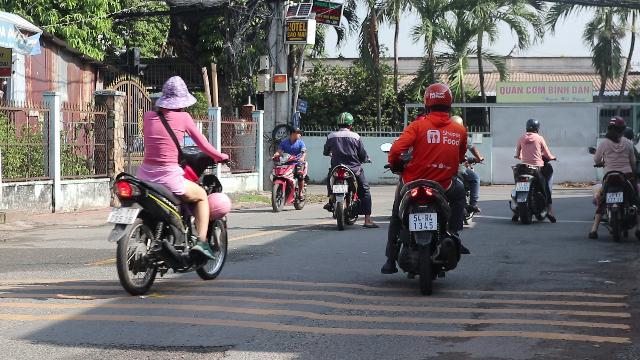helmet: (422, 82, 454, 114), (604, 116, 626, 138), (336, 112, 354, 128), (523, 118, 539, 132)
licenseplate: (108, 207, 138, 223), (409, 214, 436, 231), (606, 193, 622, 204), (332, 185, 348, 193), (516, 182, 530, 190)
motorcyclist: (104, 74, 234, 292), (380, 83, 478, 290), (588, 116, 640, 241), (320, 110, 374, 228), (508, 117, 556, 223)
nohelmet: (154, 74, 196, 109)
